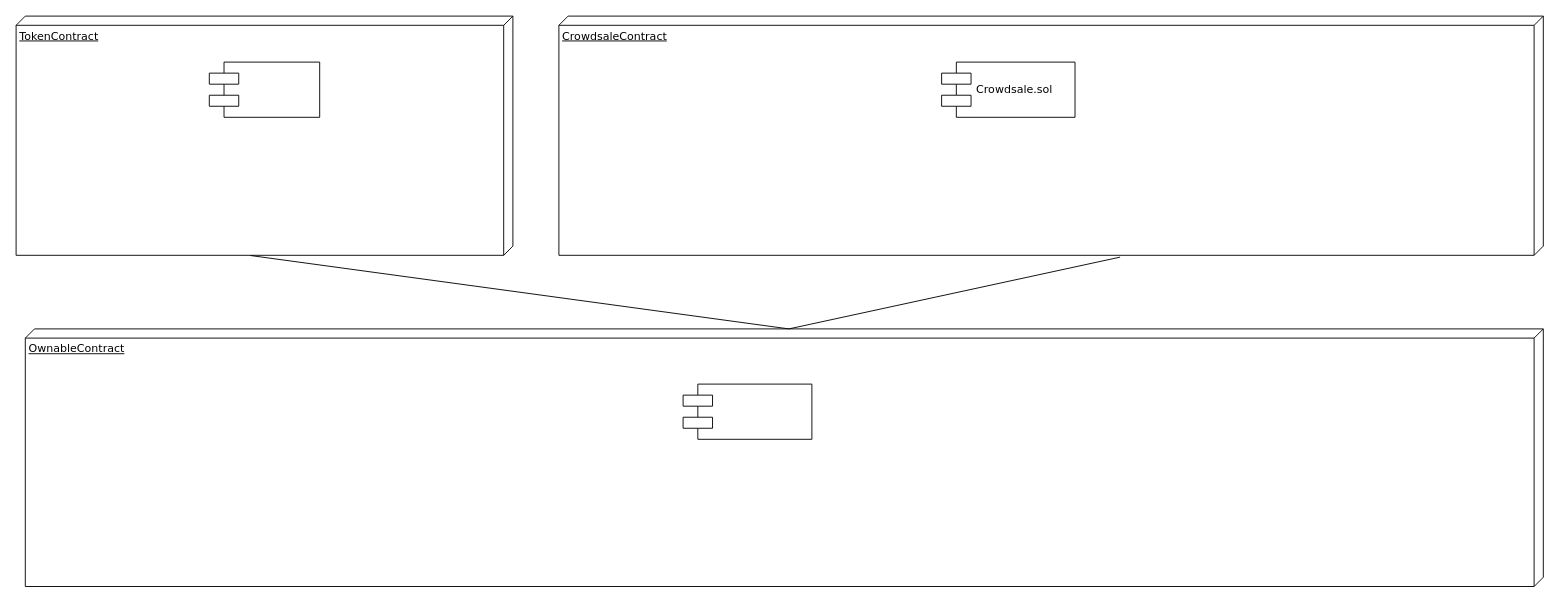
Image size: 1559x603. Some labels were removed from this diagram. The shapes that lost their labels are listed below. From the top down, each one's centre as x and y in pixels, then its label:
At point 264,89: "Token.sol".
At point 747,411: "Ownable.sol".
